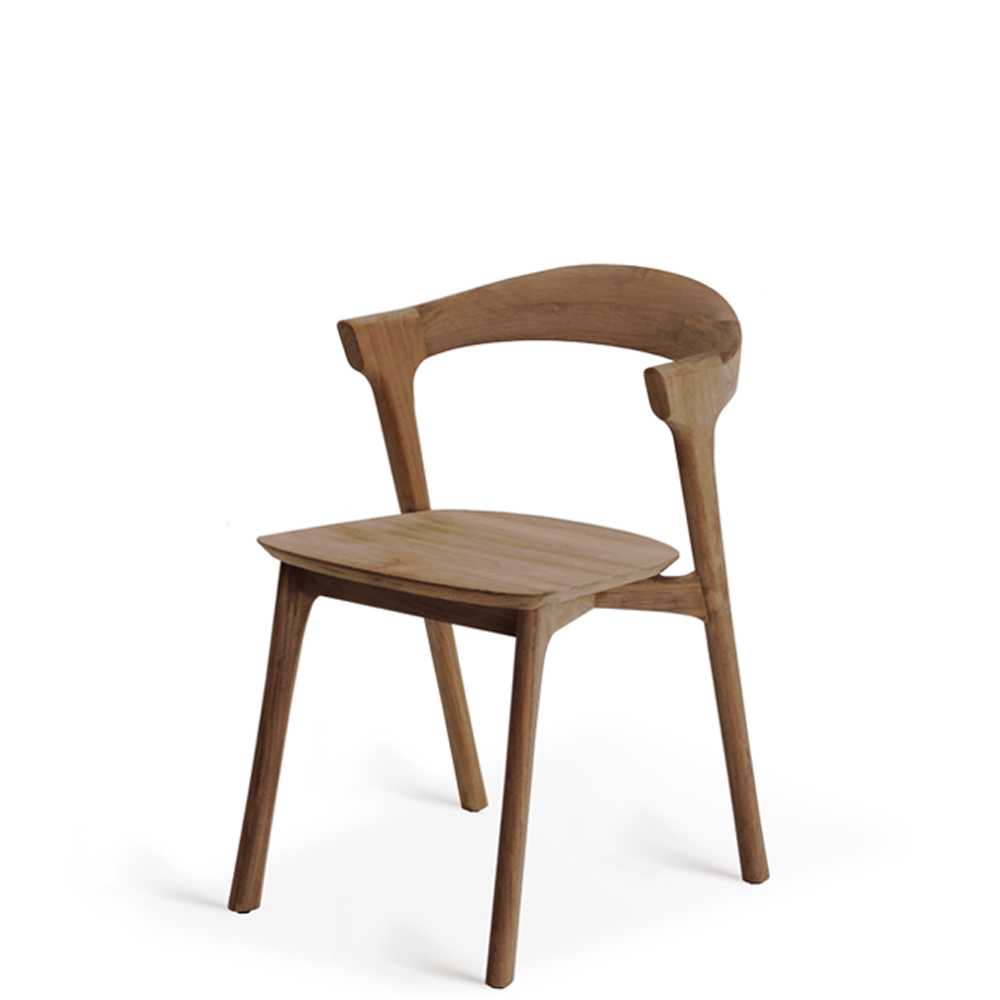kursi: (220, 256, 759, 969)
